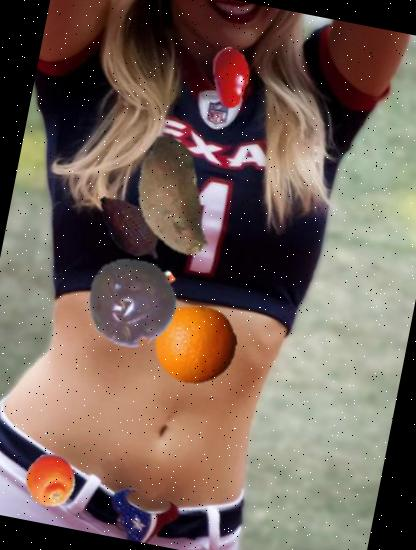Orange: (148, 297, 244, 393)
Passion: (77, 244, 188, 355)
Potato: (94, 121, 244, 271)
Salak: (82, 180, 180, 278)
Tangelo: (20, 448, 82, 511)
Tomato: (195, 42, 268, 114)
